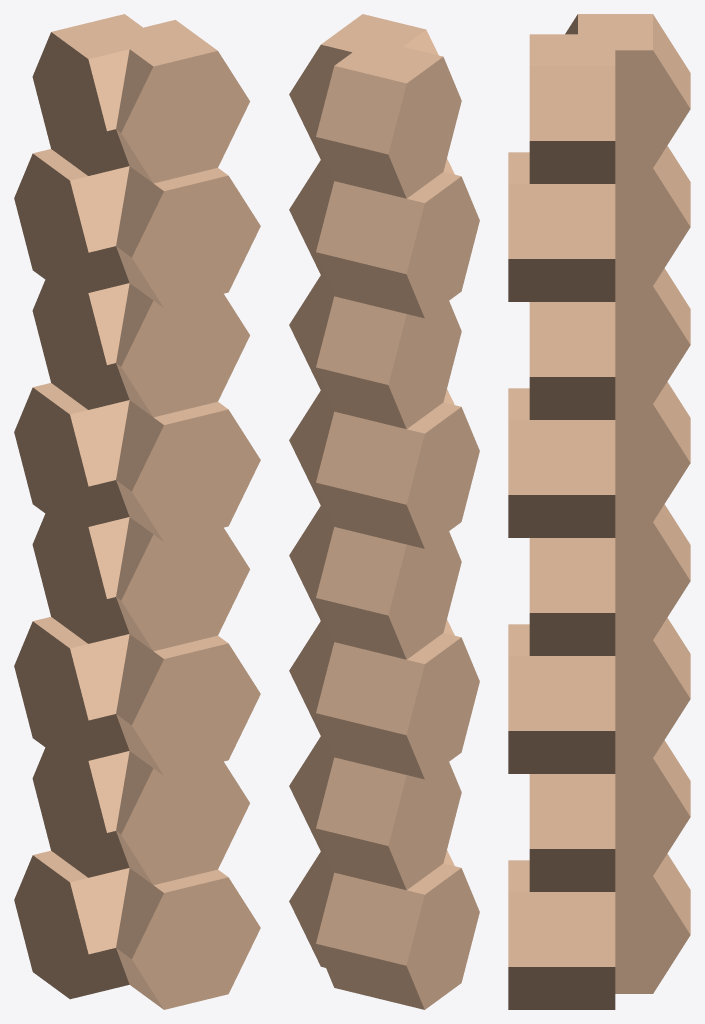
Rendered from cabinCorner.glb.
The picture shows the model from 3 angles, left to right: view 1: azimuth 30°, elevation 25°; view 2: azimuth 150°, elevation 25°; view 3: azimuth 270°, elevation 25°; orthographic projection. The views are drawn at different scales.
Parts seen in each view (by area): view 1: cabinCorner(Clone); view 2: cabinCorner(Clone); view 3: cabinCorner(Clone).
Part boxes in pixels (x1,y1,x2,y2): cabinCorner(Clone): (14, 14, 260, 1009); cabinCorner(Clone): (289, 14, 479, 1009); cabinCorner(Clone): (508, 14, 690, 1009).
Bounding box in the file's own units: 0.1702 × 0.9727 × 0.1702.
